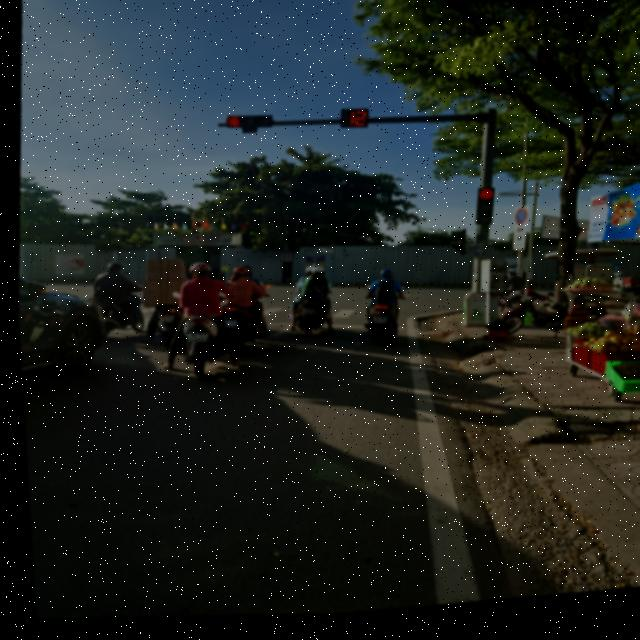Red: (220, 113, 272, 137), (469, 193, 494, 234)
